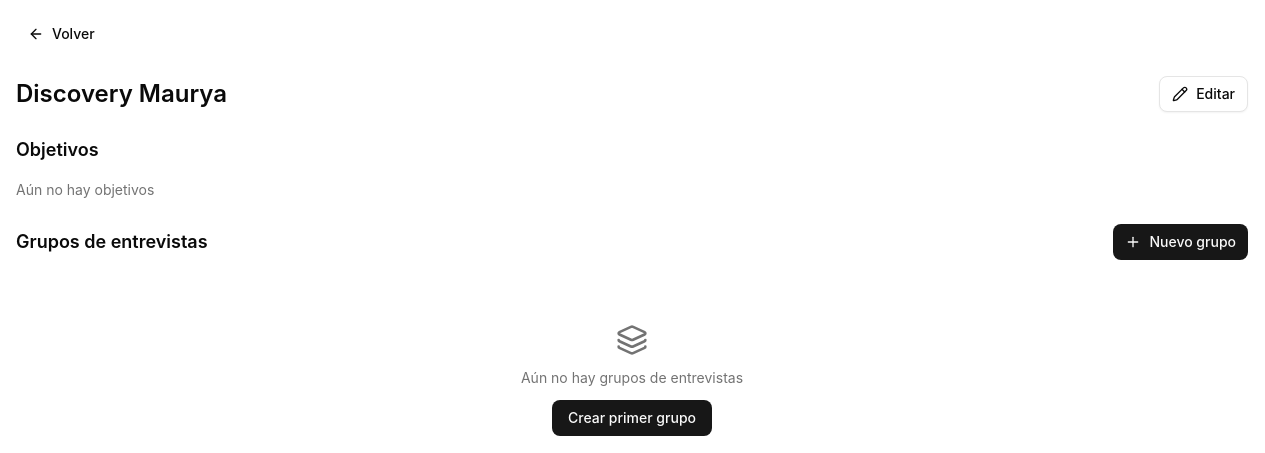
DiscoveryDetailPage › back button › returns to the list when the "Volver" back button is clicked
Expected: the heading "Discovery Maurya" is shown, [16,78,227,110]
Click the button "Volver" at (61, 34), box [16,16,107,52]
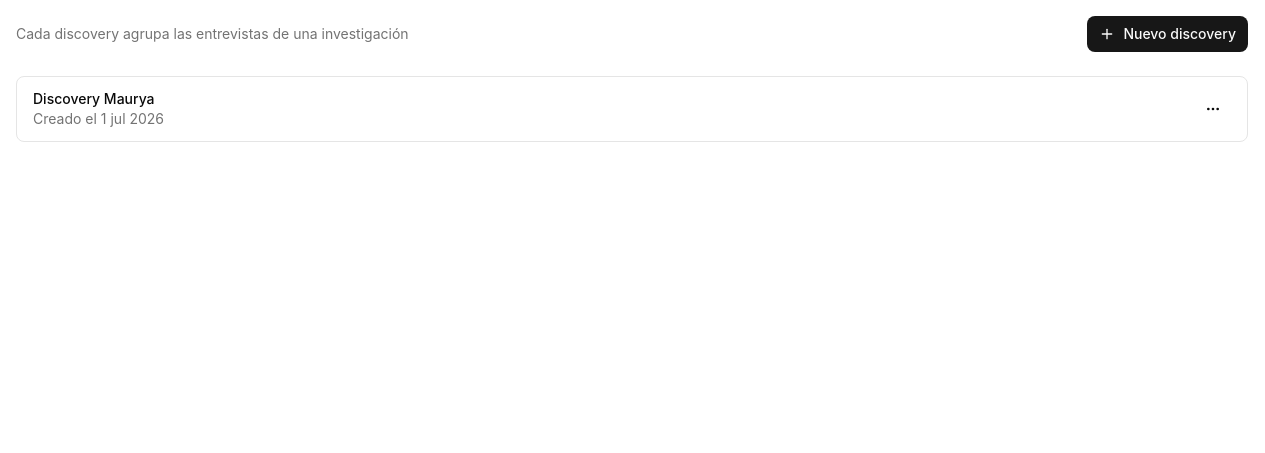
Expected: the link "Discovery Maurya" is shown, [33,89,164,109]
Result: the button "Nuevo discovery" is shown at [1087,16,1248,52]
